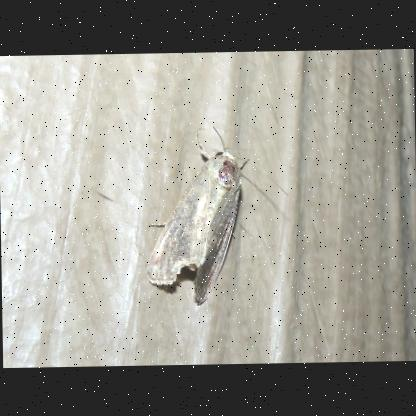Fall Armyworm Moth: (142, 123, 292, 308)
